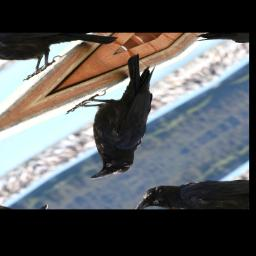Crow: (20, 52, 218, 188)
